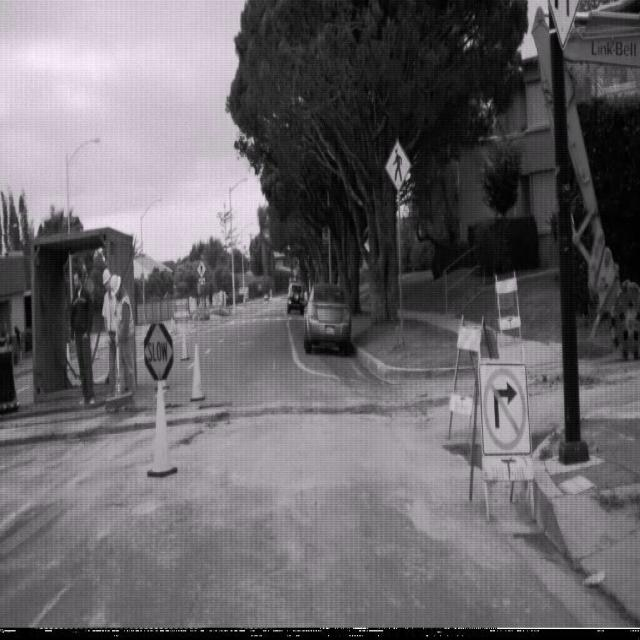noRightTurn: (478, 362, 532, 456)
pedestrianCrossing: (384, 136, 411, 190)
